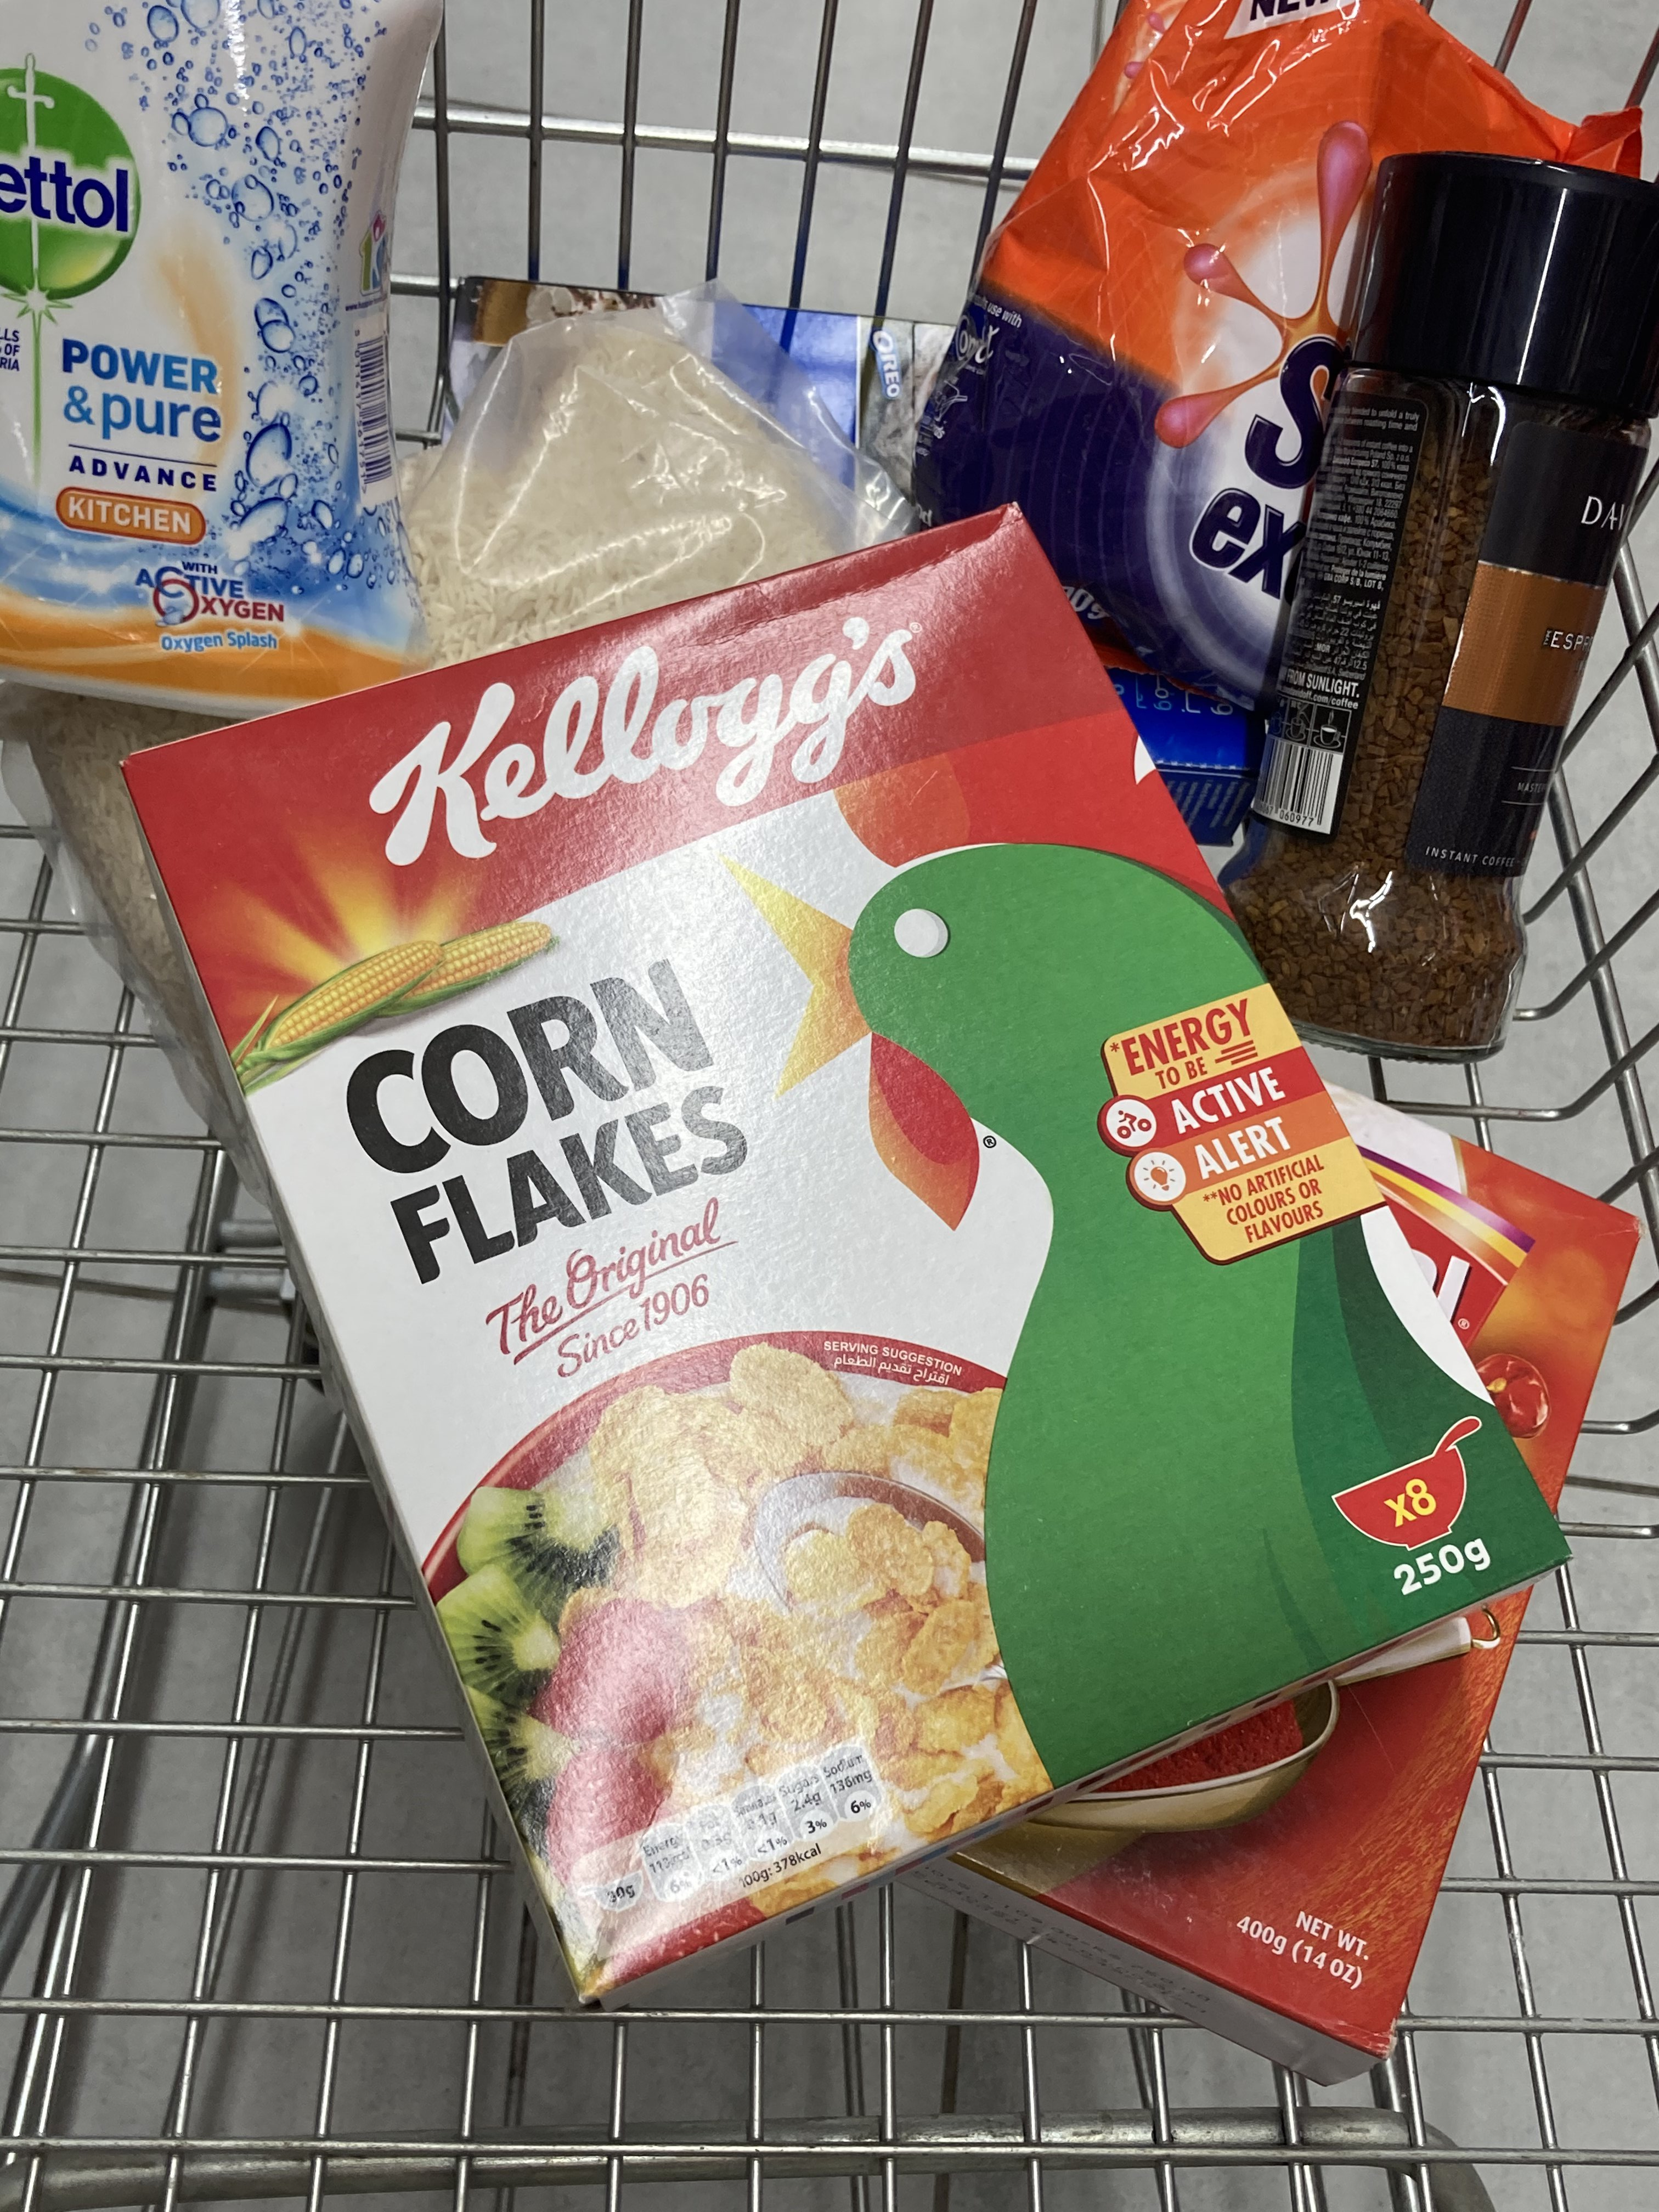Kellogg's Corn Flakes: (122, 505, 1575, 2001)
